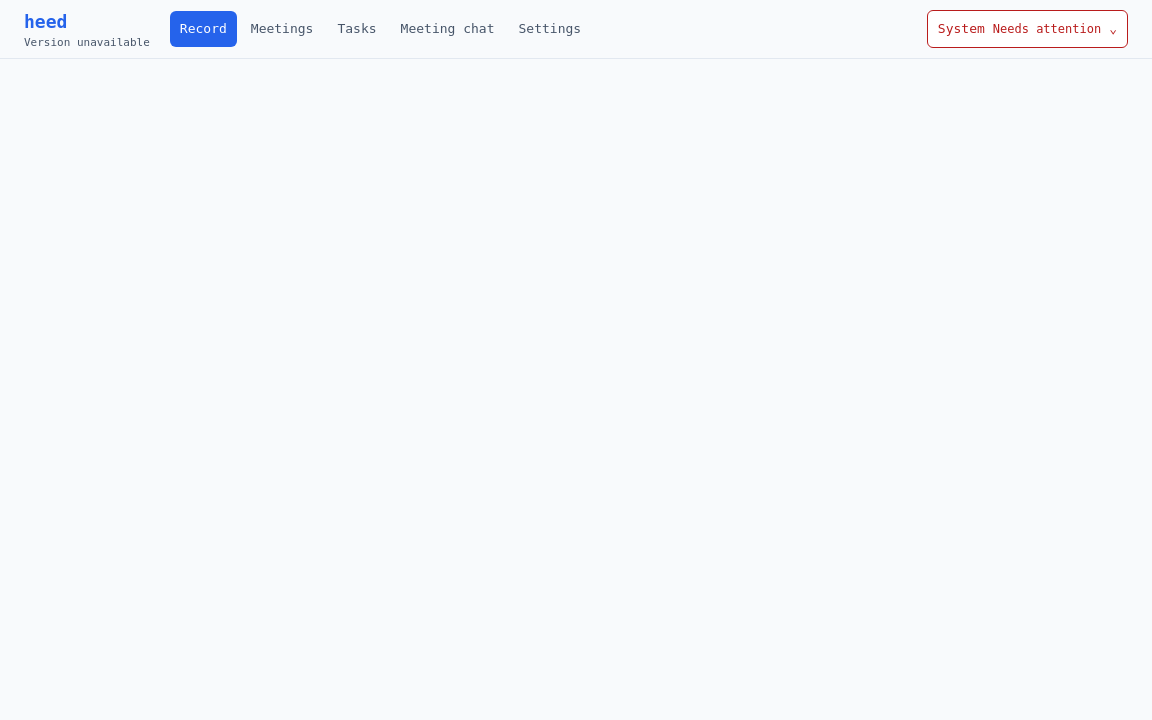
Scenario: conflicting or unknown transcription never displays invented CPU/model defaults
Click the button "System Needs attention ⌄": (1027, 29) [927,10,1128,48]
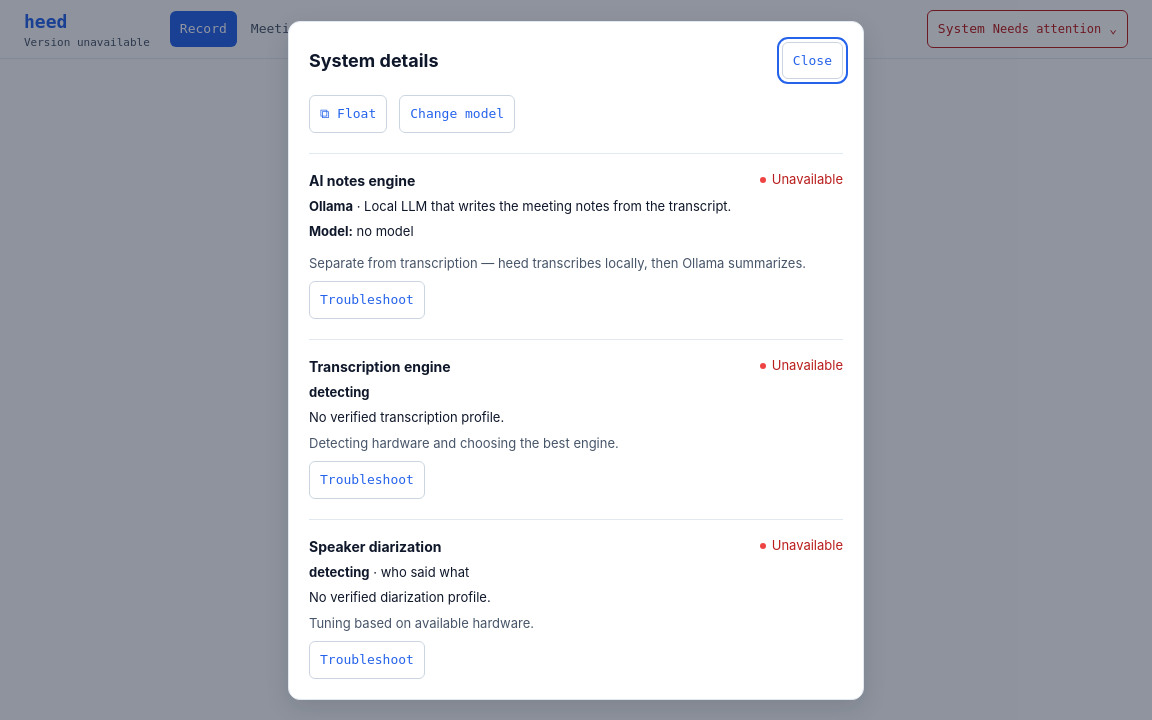
Check: the text "No verified transcription profile." is shown, box [309,409,504,425]
Check: the text "No verified diarization profile." is shown, box [309,589,491,605]
